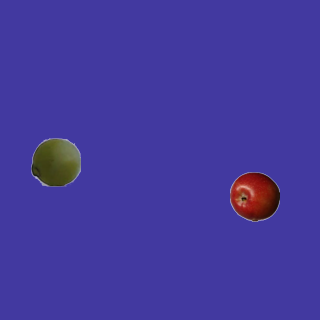Apple Braeburn: (229, 171, 279, 221)
Grape White 4: (30, 136, 80, 186)
